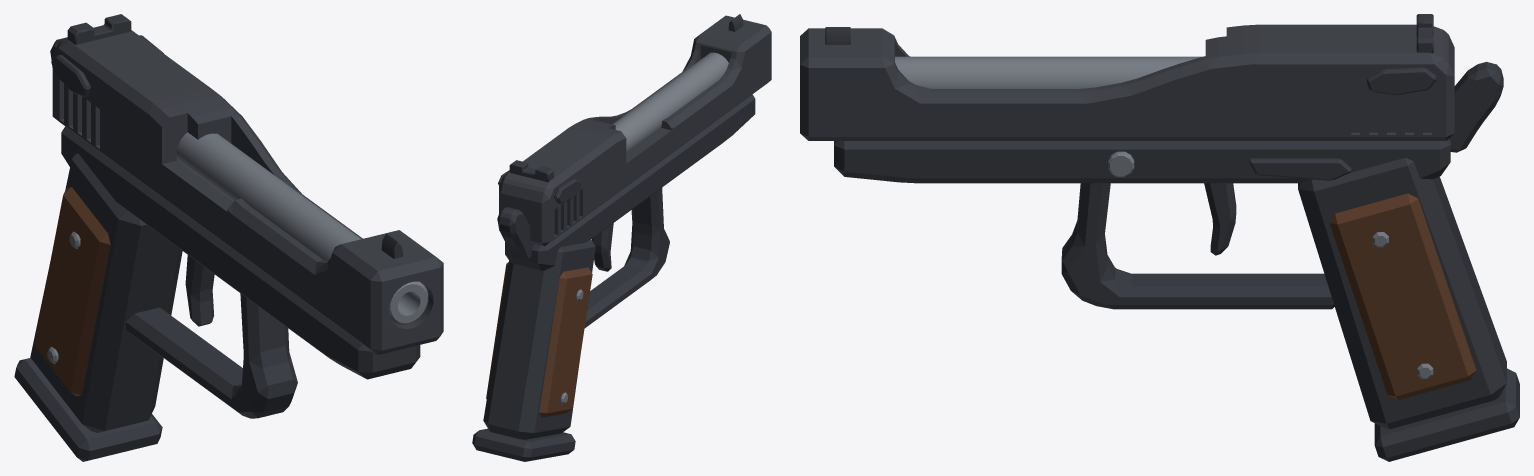
File: w_pistol@pistol_classic.glb
3 renders of one model, left to right at view 1: azimuth 30°, elevation 25°; view 2: azimuth 150°, elevation 25°; view 3: azimuth 270°, elevation 25°, orthographic. The views are drawn at different scales.
Visible parts, largest first — view 1: slide_wzA__frame__p3d4047, body_wzB__dark__p35383f, grip_wzB__dark__p35383f, grip_wzA__wood__p5c3c29, body_wzB__steel__p757a83, mag_wzB__dark__p35383f, slide_wzN__dark__p35383f; view 2: slide_wzA__frame__p3d4047, body_wzB__dark__p35383f, grip_wzB__dark__p35383f, grip_wzA__wood__p5c3c29, body_wzB__steel__p757a83, mag_wzB__dark__p35383f, hammer_wzN__dark__p35383f, slide_wzN__dark__p35383f; view 3: slide_wzA__frame__p3d4047, body_wzB__dark__p35383f, grip_wzB__dark__p35383f, grip_wzA__wood__p5c3c29, body_wzB__steel__p757a83, mag_wzB__dark__p35383f, hammer_wzN__dark__p35383f, slide_wzN__dark__p35383f, body_wzN__dark__p35383f.
Part boxes in pixels (x1,y1,x2,y2): slide_wzA__frame__p3d4047: (52, 30, 443, 354); body_wzB__dark__p35383f: (61, 126, 420, 418); grip_wzB__dark__p35383f: (30, 153, 182, 432); grip_wzA__wood__p5c3c29: (34, 187, 110, 396); body_wzB__steel__p757a83: (176, 132, 428, 324); mag_wzB__dark__p35383f: (14, 358, 162, 461); slide_wzN__dark__p35383f: (51, 14, 402, 258); slide_wzA__frame__p3d4047: (499, 15, 771, 246); body_wzB__dark__p35383f: (505, 94, 755, 327); grip_wzB__dark__p35383f: (483, 239, 595, 439); grip_wzA__wood__p5c3c29: (486, 262, 592, 417); body_wzB__steel__p757a83: (612, 52, 728, 152); mag_wzB__dark__p35383f: (472, 428, 575, 461); hammer_wzN__dark__p35383f: (497, 207, 533, 260); slide_wzN__dark__p35383f: (498, 14, 743, 203); slide_wzA__frame__p3d4047: (800, 24, 1454, 140); body_wzB__dark__p35383f: (834, 139, 1450, 309); grip_wzB__dark__p35383f: (1298, 157, 1506, 429); grip_wzA__wood__p5c3c29: (1329, 193, 1476, 399); body_wzB__steel__p757a83: (895, 56, 1201, 88); mag_wzB__dark__p35383f: (1374, 368, 1519, 461); hammer_wzN__dark__p35383f: (1449, 61, 1503, 152); slide_wzN__dark__p35383f: (825, 14, 1436, 94); body_wzN__dark__p35383f: (1249, 158, 1351, 180).
Bounding box in the file's own units: 0.054 × 0.2188 × 0.3408.
